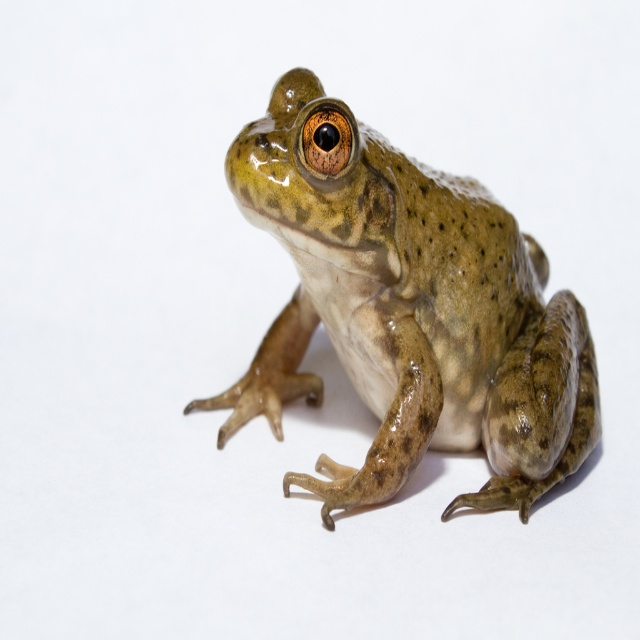Frog: (182, 64, 603, 533)
